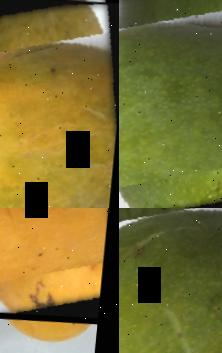PartiallyRipe: (0, 0, 119, 208)
Ripe: (0, 208, 118, 322)
Unripe: (119, 0, 222, 208), (119, 208, 222, 353)
